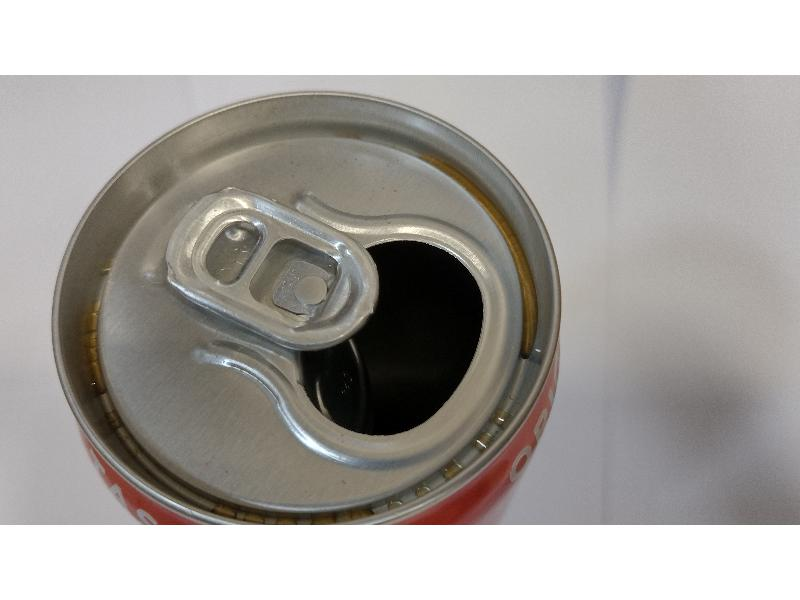can: (48, 85, 574, 519)
